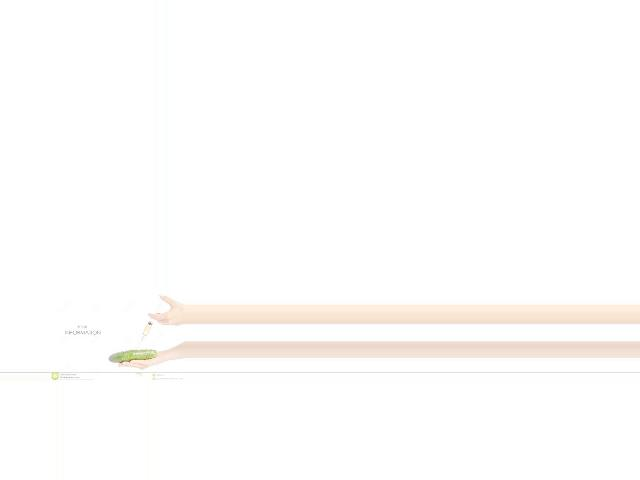cucumber: (109, 350, 157, 363)
